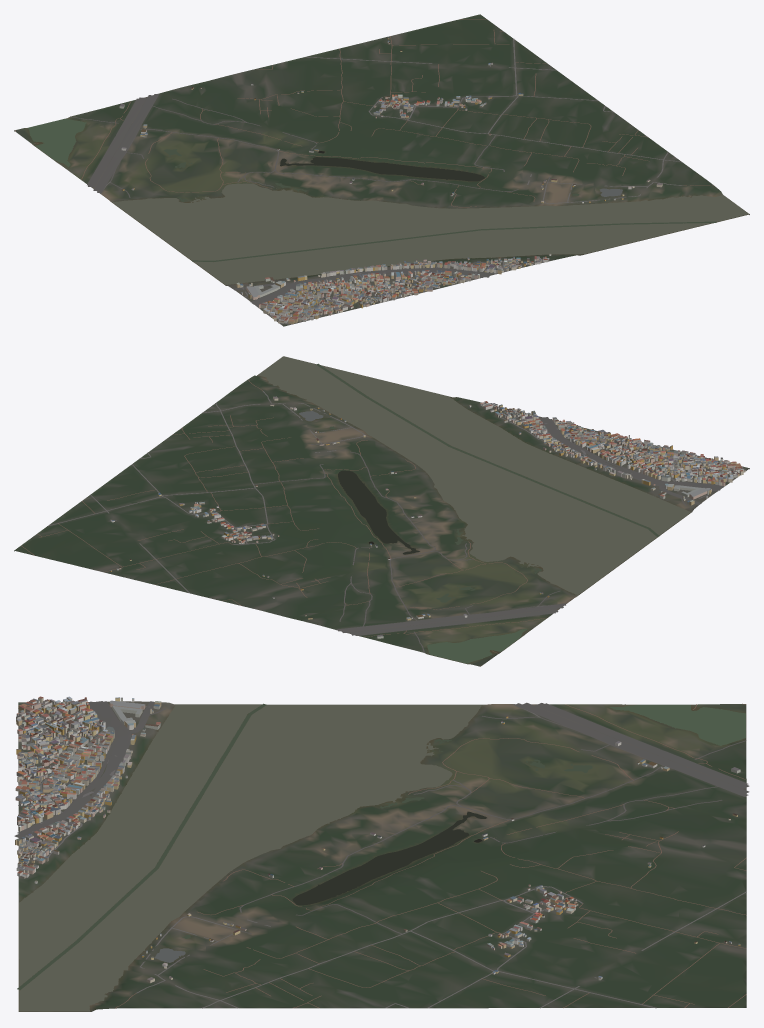
3 views of the same model, one above another, from view 1: azimuth 30°, elevation 25°; view 2: azimuth 150°, elevation 25°; view 3: azimuth 270°, elevation 25° (orthographic). The views are drawn at different scales.
Parts seen in each view (by area): view 1: ground, water, buildings, roads; view 2: ground, water, buildings, roads; view 3: ground, water, buildings, roads.
Boxes of the visible parts, x1,y1,x2,y2 form: ground: (14,14,749,326); water: (28,118,748,284); buildings: (119,37,662,324); roads: (15,19,713,324); ground: (14,364,749,666); water: (258,356,690,663); buildings: (109,396,745,638); roads: (21,380,744,666); ground: (18,701,746,1011); water: (17,703,745,1011); buildings: (15,696,740,983); roads: (14,701,749,1008).
Size of the model in its own units: 1409 by 22.52 by 1417.
